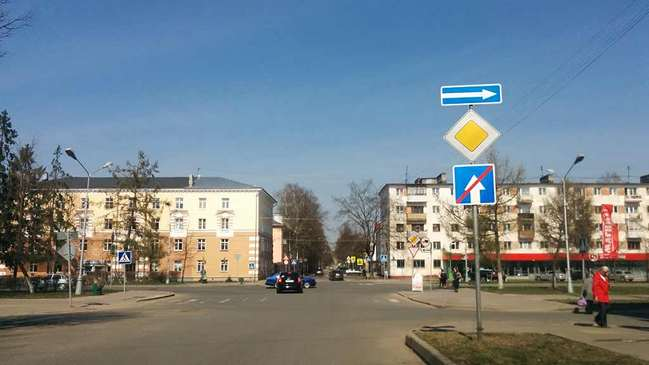One-Way Traffic: (441, 84, 500, 103)
